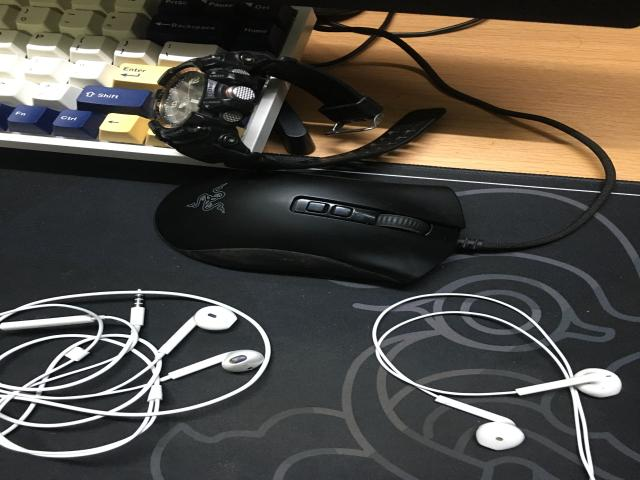Mouse: (155, 172, 465, 283)
Watch: (152, 51, 443, 170)
wire: (372, 292, 622, 480), (0, 290, 272, 458)
